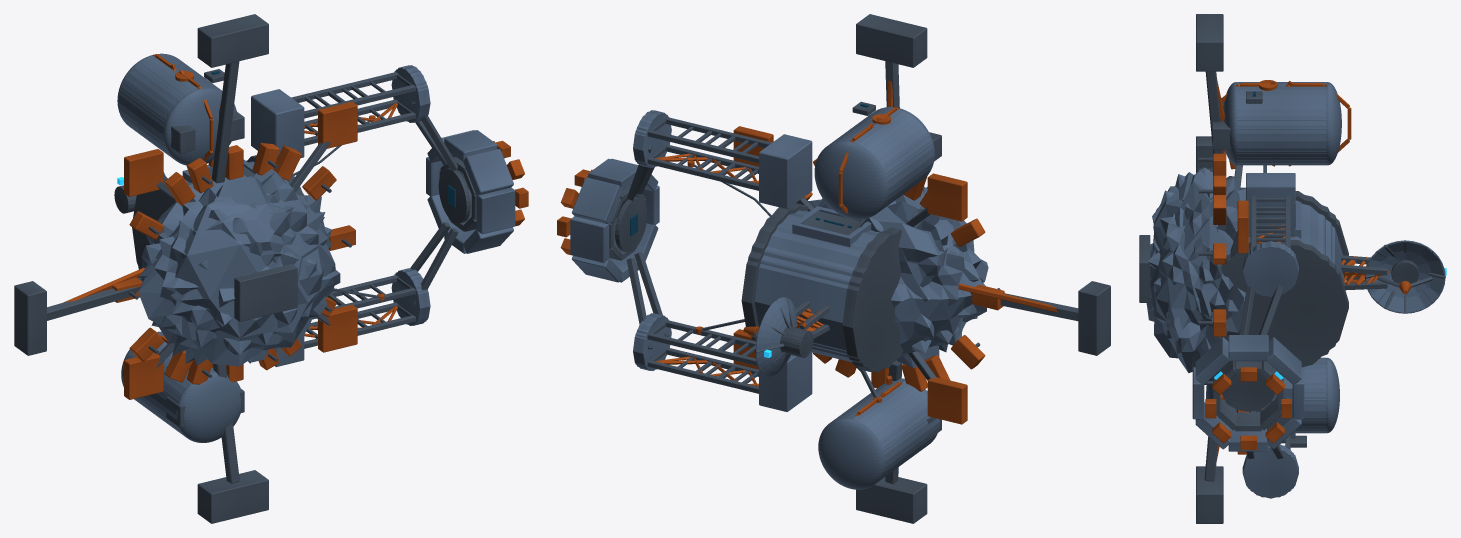
File: place_claim_outpost_relay.glb
3 renders of one model, left to right at view 1: azimuth 30°, elevation 25°; view 2: azimuth 150°, elevation 25°; view 3: azimuth 270°, elevation 25°, orthographic.
Parts seen in each view (by area): view 1: LOD0_Station_Material_Hull, LOD2_Station_Material_Mechanical, LOD1_Station_Material_Hull, LOD2_Station_Material_Hull, LOD0_Station_Material_Mechanical, LOD1_Station_Material_Mechanical, LOD0_Station_Material_Warm, LOD1_Station_Material_Warm, LOD2_Station_Material_Warm; view 2: LOD0_Station_Material_Hull, LOD1_Station_Material_Hull, LOD2_Station_Material_Mechanical, LOD0_Station_Material_Mechanical, LOD1_Station_Material_Mechanical, LOD2_Station_Material_Hull, LOD0_Station_Material_Warm, LOD1_Station_Material_Warm, LOD2_Station_Material_Warm; view 3: LOD0_Station_Material_Hull, LOD0_Station_Material_Mechanical, LOD1_Station_Material_Hull, LOD2_Station_Material_Hull, LOD1_Station_Material_Mechanical, LOD2_Station_Material_Mechanical, LOD1_Station_Material_Warm, LOD0_Station_Material_Warm, LOD2_Station_Material_Warm.
Boxes of the visible parts, x1,y1,x2,y2 form: LOD0_Station_Material_Hull: [117, 53, 512, 442]; LOD2_Station_Material_Mechanical: [14, 14, 476, 523]; LOD1_Station_Material_Hull: [118, 54, 513, 442]; LOD2_Station_Material_Hull: [123, 56, 515, 433]; LOD0_Station_Material_Mechanical: [14, 14, 476, 509]; LOD1_Station_Material_Mechanical: [14, 14, 476, 522]; LOD0_Station_Material_Warm: [112, 55, 524, 396]; LOD1_Station_Material_Warm: [64, 54, 525, 398]; LOD2_Station_Material_Warm: [112, 64, 528, 399]; LOD0_Station_Material_Hull: [571, 107, 988, 489]; LOD1_Station_Material_Hull: [571, 107, 986, 489]; LOD2_Station_Material_Mechanical: [609, 14, 1110, 523]; LOD0_Station_Material_Mechanical: [609, 14, 1110, 521]; LOD1_Station_Material_Mechanical: [609, 14, 1110, 522]; LOD2_Station_Material_Hull: [570, 109, 974, 486]; LOD0_Station_Material_Warm: [557, 107, 1000, 422]; LOD1_Station_Material_Warm: [557, 80, 1057, 423]; LOD2_Station_Material_Warm: [557, 115, 1004, 424]; LOD0_Station_Material_Hull: [1146, 82, 1445, 498]; LOD0_Station_Material_Mechanical: [1140, 14, 1445, 521]; LOD1_Station_Material_Hull: [1150, 82, 1444, 497]; LOD2_Station_Material_Hull: [1152, 99, 1444, 498]; LOD1_Station_Material_Mechanical: [1140, 14, 1445, 523]; LOD2_Station_Material_Mechanical: [1139, 14, 1445, 523]; LOD1_Station_Material_Warm: [1205, 78, 1410, 460]; LOD0_Station_Material_Warm: [1206, 80, 1410, 449]; LOD2_Station_Material_Warm: [1205, 80, 1409, 454].
Size of what is drawn, in the model's own units: 104 by 95.86 by 55.32.
Materials: 5 (5 with a texture image).
